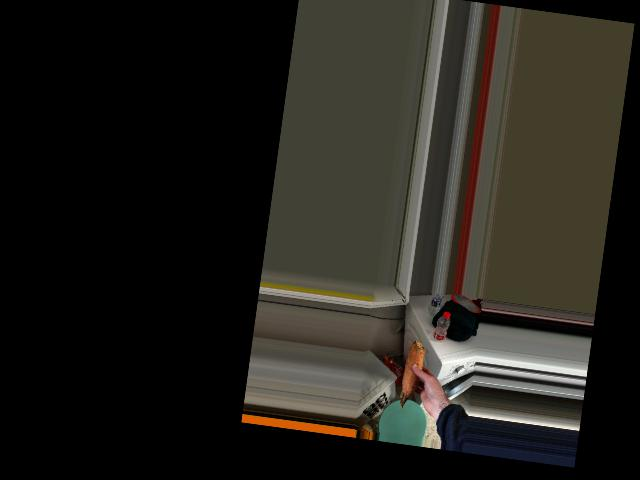sweet_potato: (400, 345, 428, 405)
